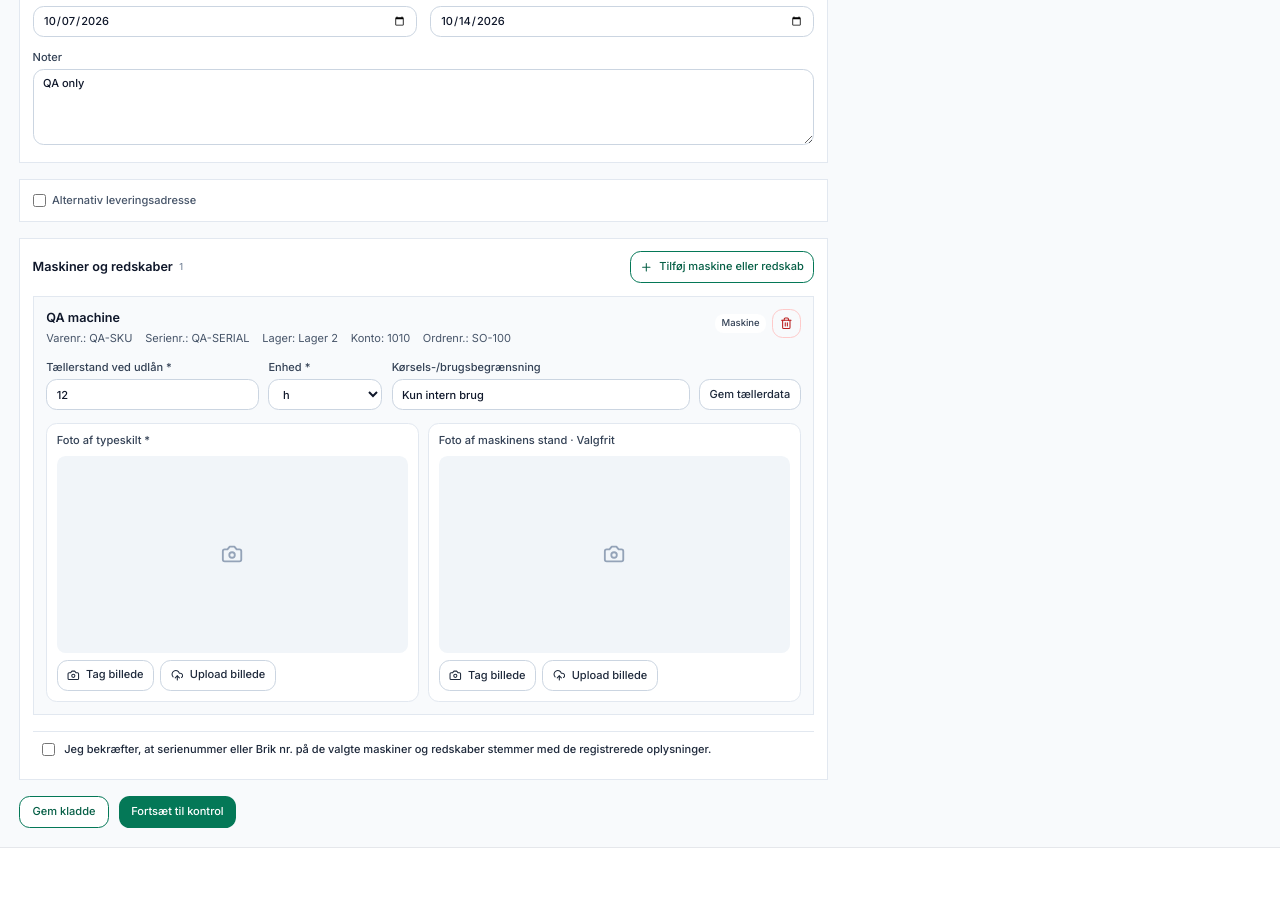
Test case: Loan form interactions › marks a missing type-plate photo on the exact photo control
(page scrolled)
What coordinates should you click on to do the following:
click the button "Fortsæt til kontrol"
I would click on:
 (177, 812)
Its box is [119,796,236,828].
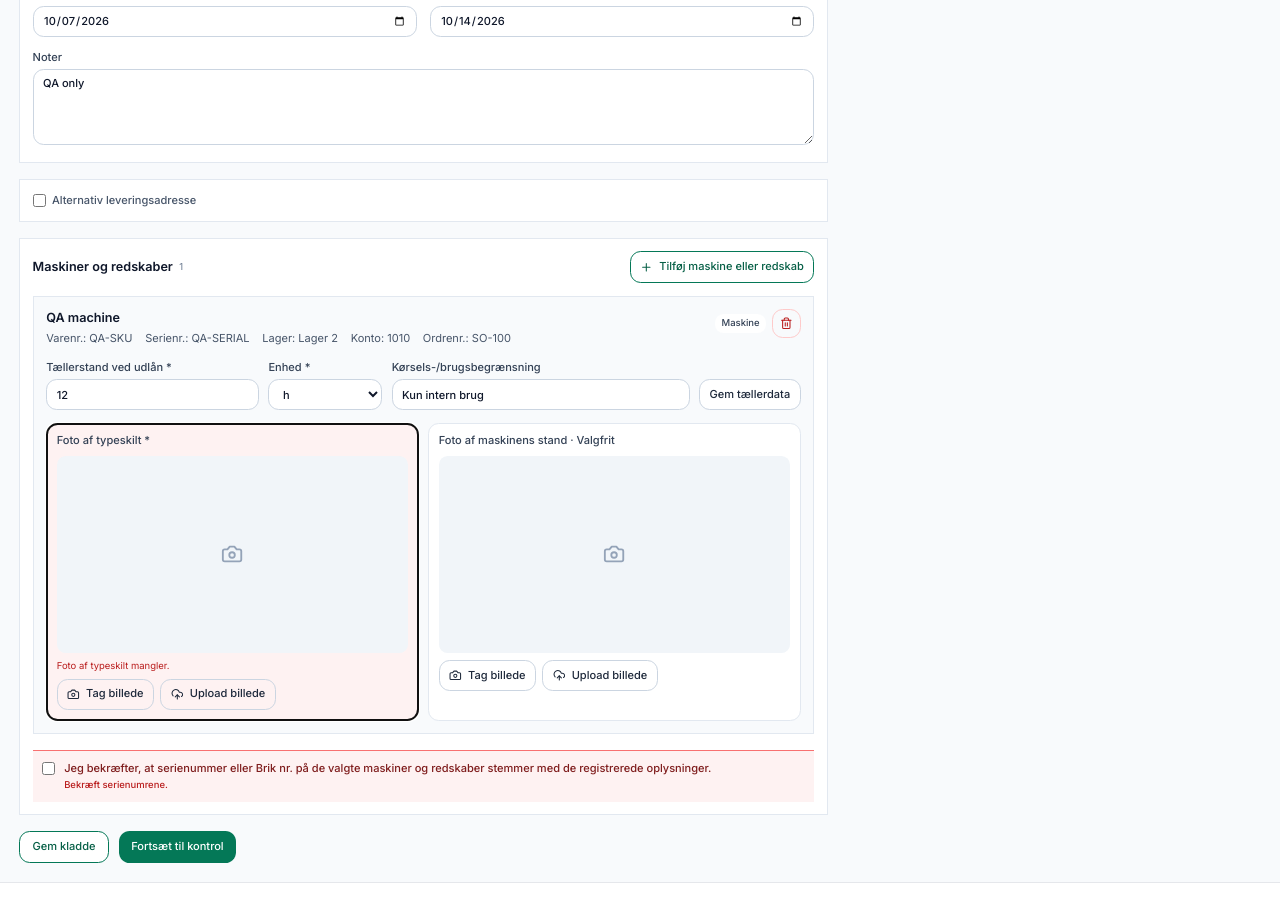
Expected: the text "Foto af typeskilt mangler." is shown, [57,660,170,671]
